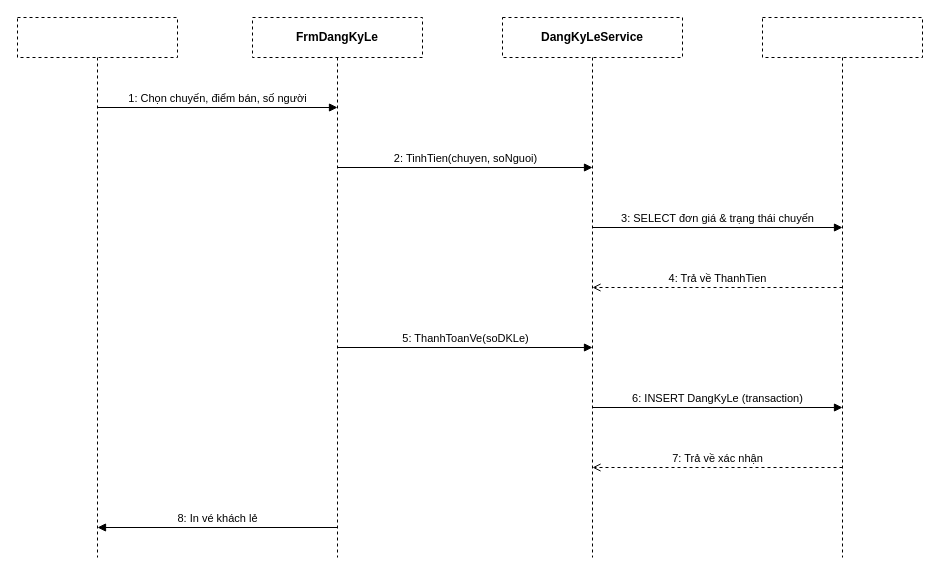
The diagram is 940 pixels wide and 575 high, and some of its shapes have lost their labels. Here are the shapes that lost their labels. From the top down, the box of each, then its label:
(16, 16, 178, 558): NV bán vé
(762, 16, 922, 558): SQL Server DB
